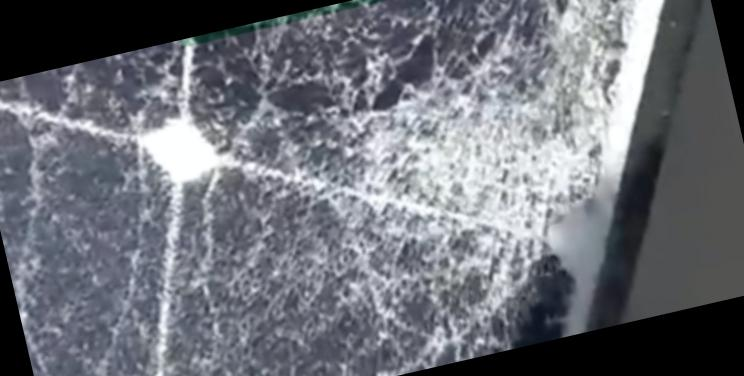Crack: (280, 0, 711, 323)
